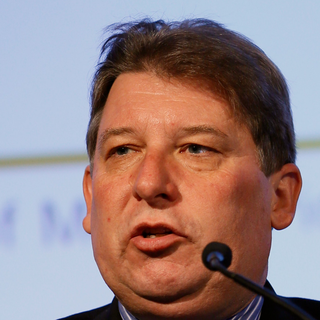eye: (173, 139, 230, 161), (102, 142, 142, 162)
